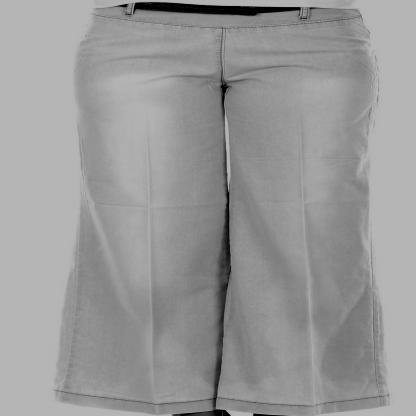dress: (46, 0, 403, 415)
